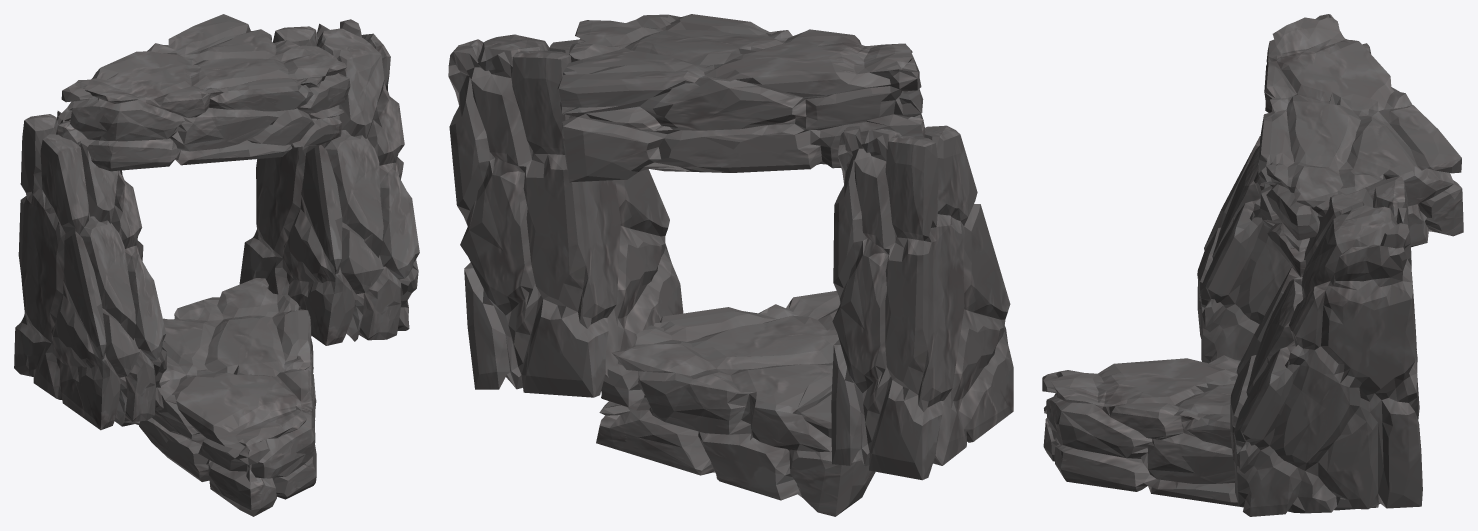
Rendered from MOD_Caveway.fbx.
The picture shows the model from 3 angles, left to right: view 1: azimuth 30°, elevation 25°; view 2: azimuth 150°, elevation 25°; view 3: azimuth 270°, elevation 25°; orthographic projection. The views are drawn at different scales.
Visible parts, largest first — view 1: Cube, Cube5, Cube4, Cube6; view 2: Cube, Cube5, Cube4, Cube6; view 3: Cube, Cube4, Cube6, Cube5.
Boxes of the visible parts, <box> form: Cube: <box>239,19,419,345</box>; Cube5: <box>14,111,166,430</box>; Cube4: <box>56,14,350,171</box>; Cube6: <box>114,278,316,516</box>; Cube: <box>448,34,683,397</box>; Cube5: <box>831,125,1013,480</box>; Cube4: <box>557,14,925,182</box>; Cube6: <box>596,291,875,516</box>; Cube: <box>1230,176,1422,516</box>; Cube4: <box>1258,14,1463,277</box>; Cube6: <box>1042,355,1378,510</box>; Cube5: <box>1197,43,1370,363</box>.
Size of the model in its own units: 5.17 by 4.91 by 4.61.
